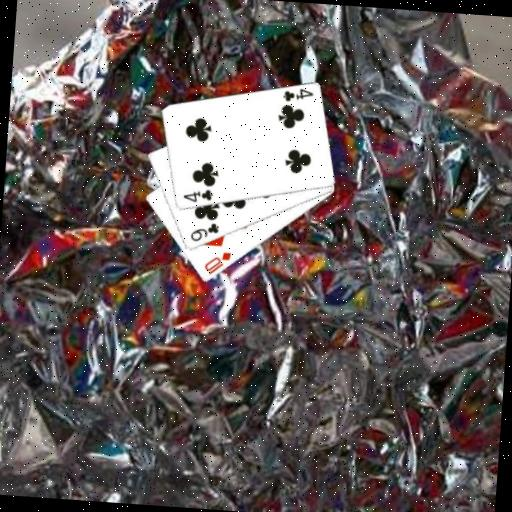10D: (201, 247, 233, 278)
4C: (279, 84, 315, 105), (179, 184, 214, 205)
9C: (187, 219, 221, 245)
